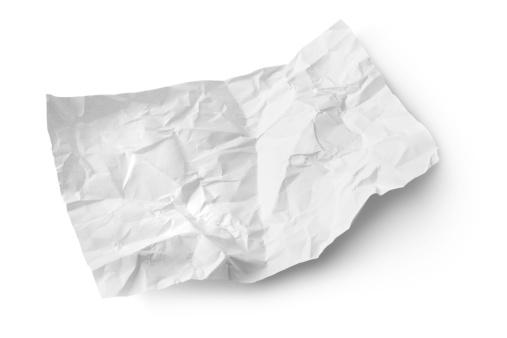paper: (47, 22, 437, 296)
